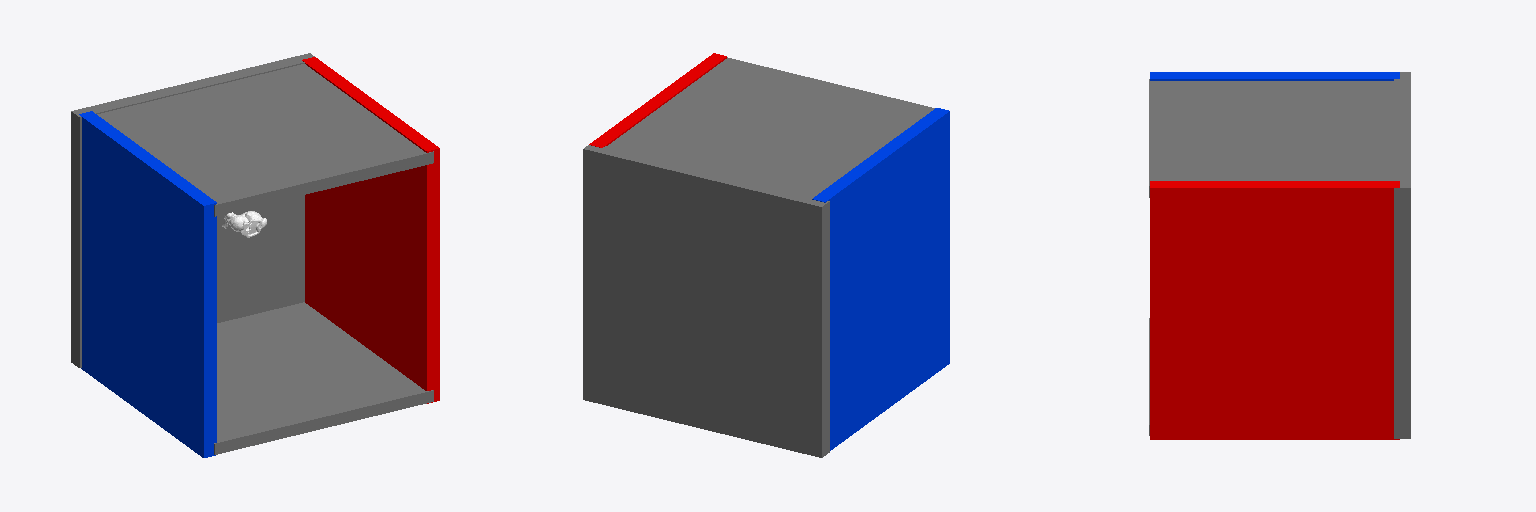
The picture shows the model from 3 angles: view 1: azimuth 30°, elevation 25°; view 2: azimuth 150°, elevation 25°; view 3: azimuth 270°, elevation 25°; orthographic projection.
Parts seen in each view (by area): view 1: Box003, Box001; view 2: Box003; view 3: Box003.
Part boxes in pixels (bbox=[...]): Box003: bbox=[71, 53, 439, 457]; Box001: bbox=[222, 211, 266, 237]; Box003: bbox=[583, 53, 949, 457]; Box003: bbox=[1149, 72, 1410, 439].
Size of the model in its own units: 109 by 111 by 104.
1 materials, 1 textured.